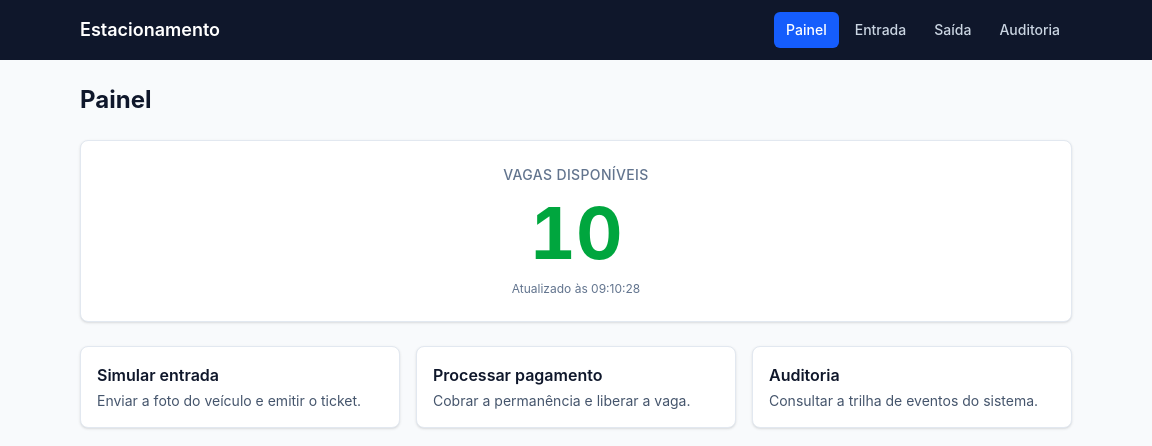
Test case: App › navega pelos links do cabeçalho e destaca o link ativo
Step 1. Click the link "Entrada" → [880, 30], box [855,21,906,38]
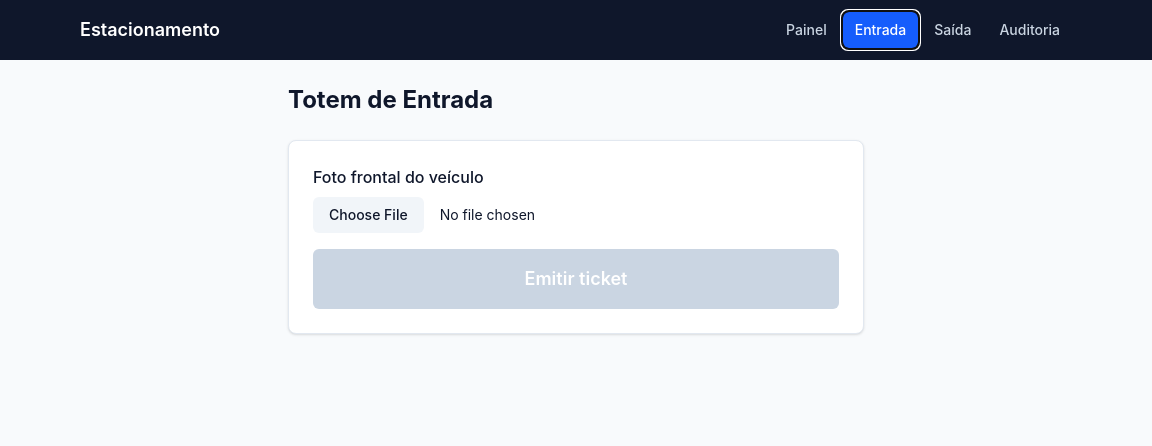
Check: the heading "Totem de Entrada" is shown, box [288,85,493,114]
Step 2. Click the link "Saída" → [953, 30], box [934,21,971,38]
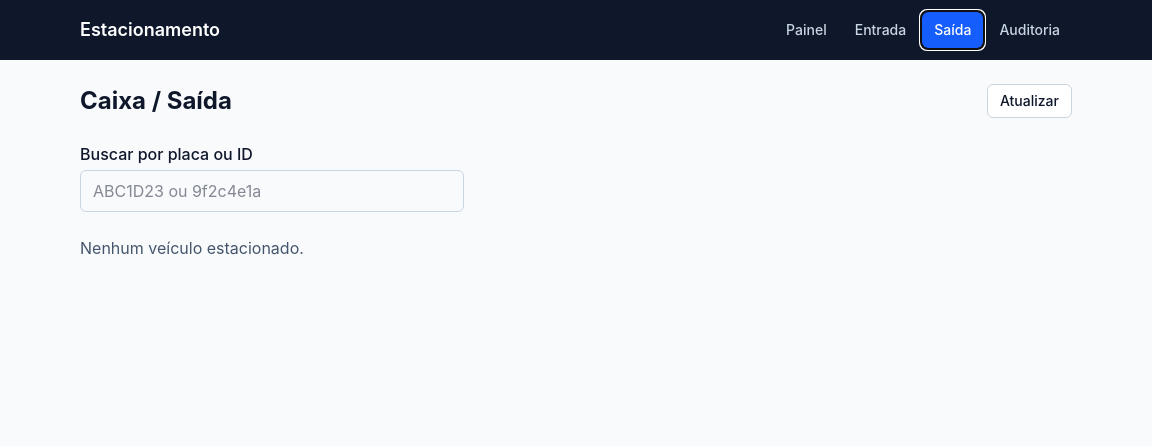
Check: the heading "Caixa / Saída" is shown, box [80,85,232,117]
Step 3. Click the link "Auditoria" → [1030, 30], box [999,21,1060,38]
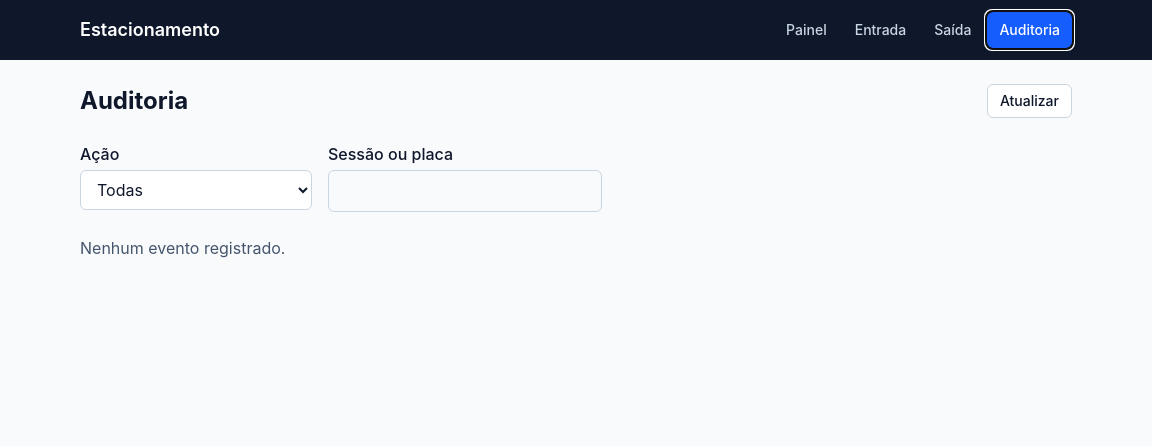
Check: the heading "Auditoria" is shown, box [80,85,188,117]
Step 4. Click the link "Painel" → [806, 30], box [786,21,827,38]
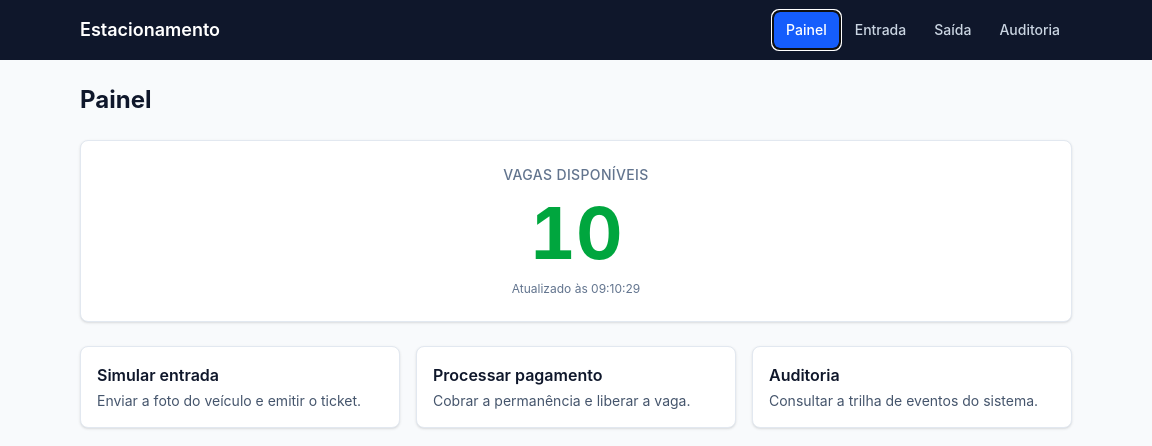
Check: the heading "Painel" is shown, box [80,85,151,114]
